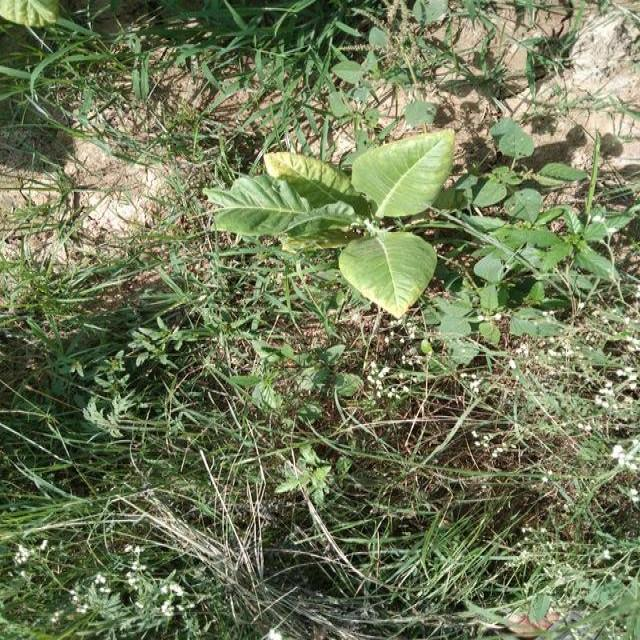crop: (194, 135, 460, 312)
